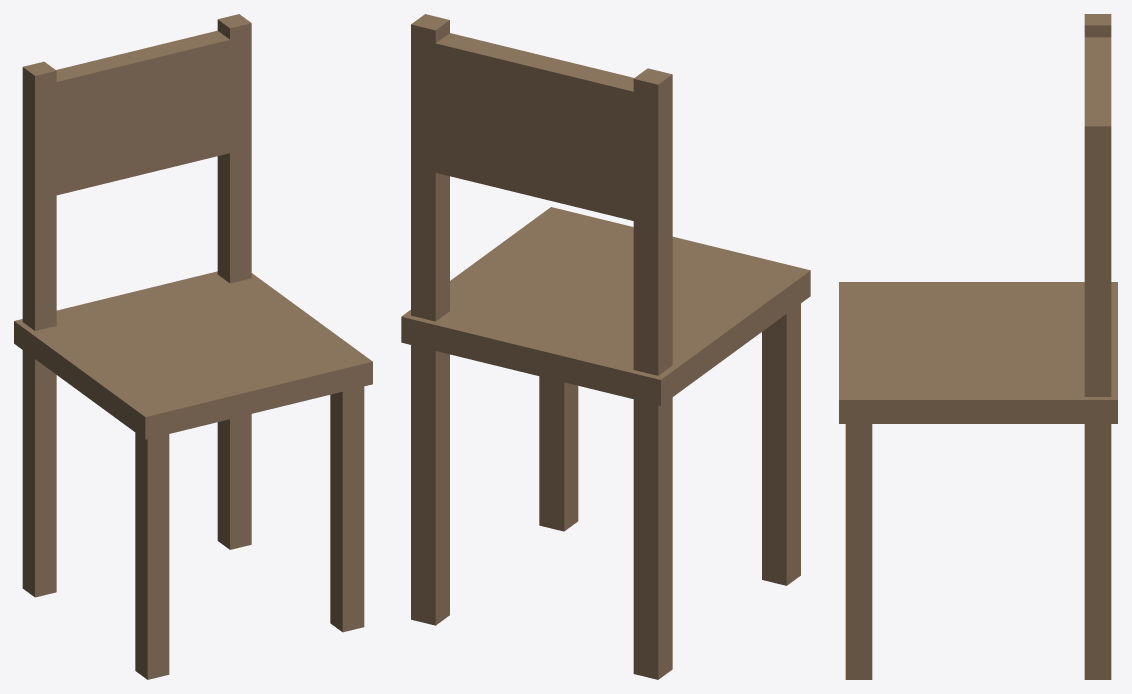
The model's file is chair.glb.
The picture shows the model from 3 angles, left to right: view 1: azimuth 30°, elevation 25°; view 2: azimuth 150°, elevation 25°; view 3: azimuth 270°, elevation 25°; orthographic projection. The views are drawn at different scales.
Parts seen in each view (by area): view 1: chair; view 2: chair; view 3: chair.
Part boxes in pixels (x1=…): chair: x1=14, y1=14, x2=372, y2=679; chair: x1=401, y1=14, x2=810, y2=679; chair: x1=839, y1=14, x2=1117, y2=679.
Bounding box in the file's own units: 0.42 × 0.92 × 0.42.
